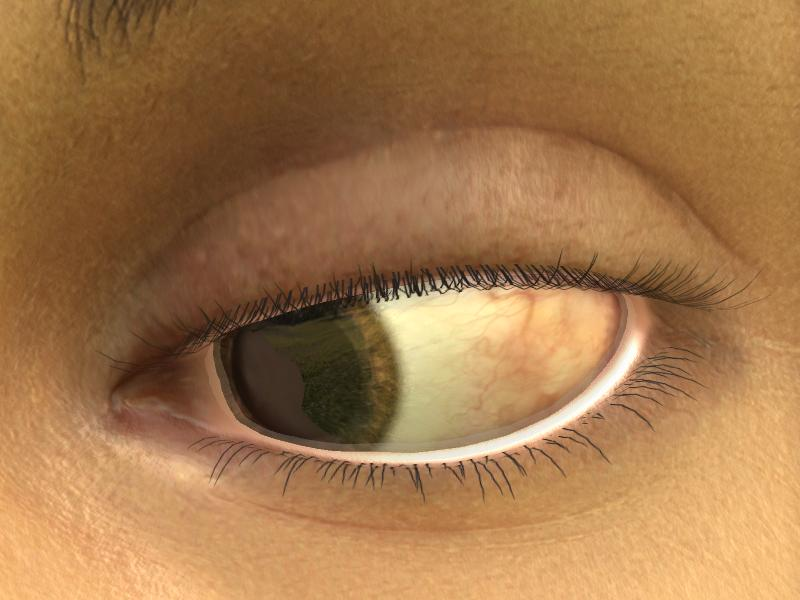eye: (216, 296, 402, 456)
